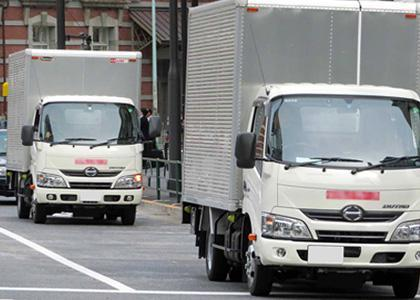Truck: (177, 0, 420, 300), (3, 50, 144, 225)
